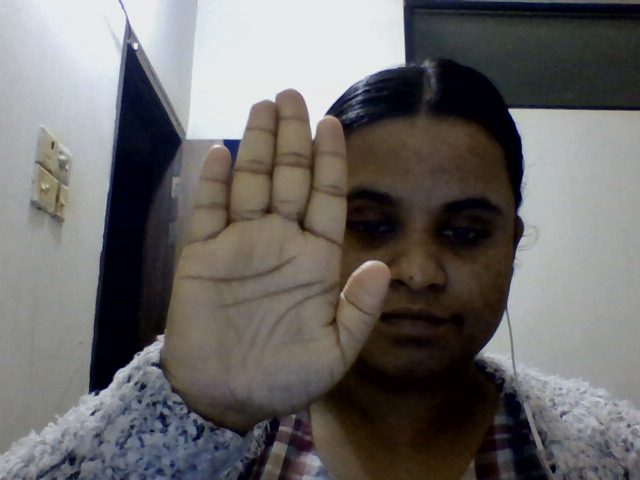hello: (130, 77, 389, 418)
